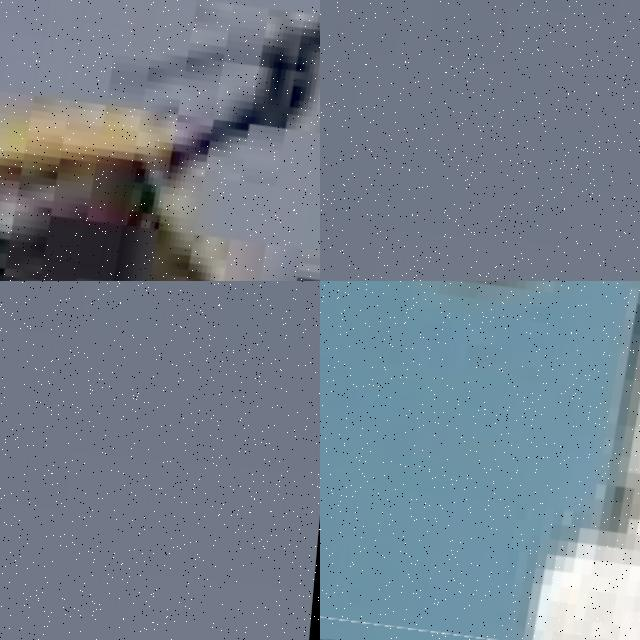0: (0, 0, 320, 281)
drone: (320, 281, 640, 640)
